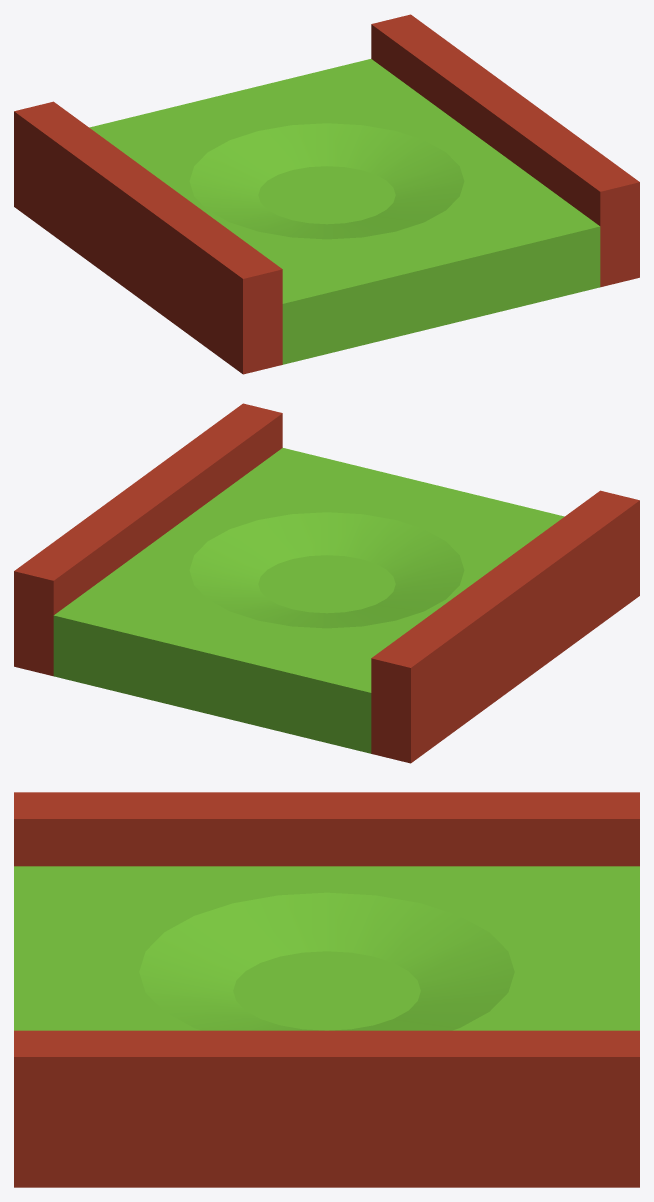
The model's file is Bump_Down_Walls.FBX.
3 renders of one model, top to bottom at view 1: azimuth 30°, elevation 25°; view 2: azimuth 150°, elevation 25°; view 3: azimuth 270°, elevation 25°, orthographic. The views are drawn at different scales.
Parts seen in each view (by area): view 1: Bump_down_walls_01, Walls; view 2: Bump_down_walls_01, Walls; view 3: Walls, Bump_down_walls_01.
Part boxes in pixels (x1,y1,x2,y2): Bump_down_walls_01: [89, 59, 600, 364]; Walls: [14, 14, 639, 374]; Bump_down_walls_01: [53, 448, 564, 753]; Walls: [14, 403, 639, 763]; Walls: [14, 792, 639, 1187]; Bump_down_walls_01: [14, 866, 639, 1030].
Size of the model in its own units: 0.9999 by 0.9999 by 0.23.
